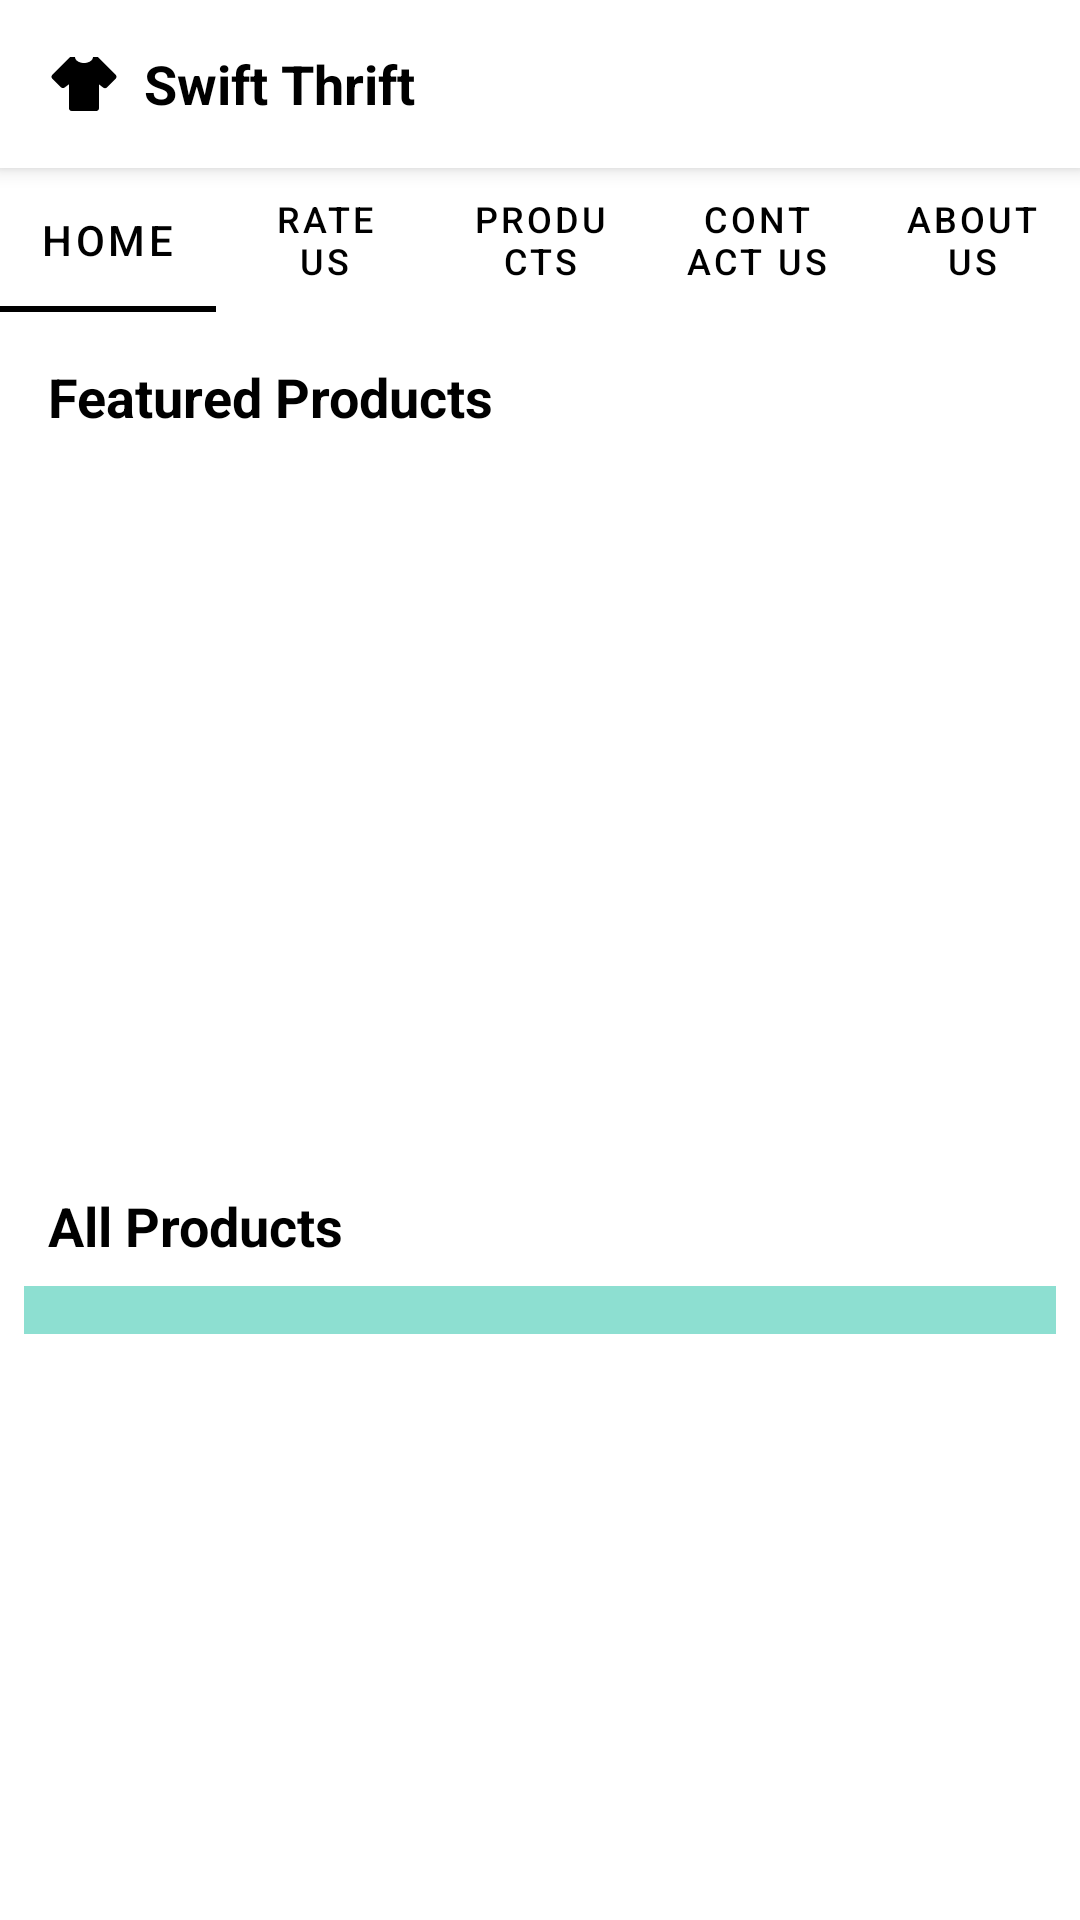

Named icons in this screenshot (1080w x 1920h) and their bounding boxes, (x1, y1, x2, y2):
tshirt: (51, 57, 117, 111)
